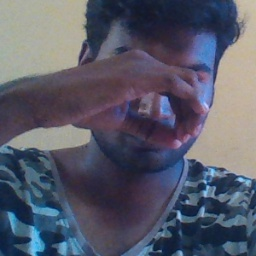O: (45, 47, 215, 156)
